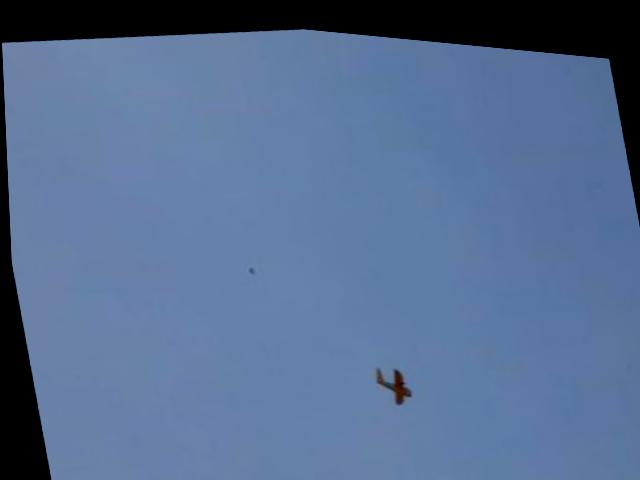uav: (370, 353, 414, 403)
